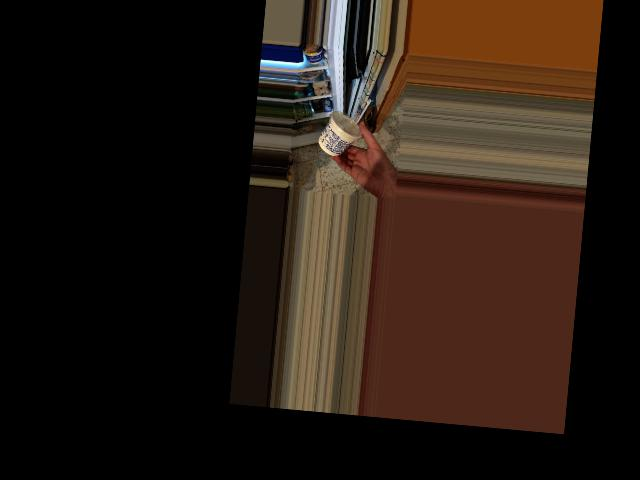cotage: (320, 109, 362, 159)
